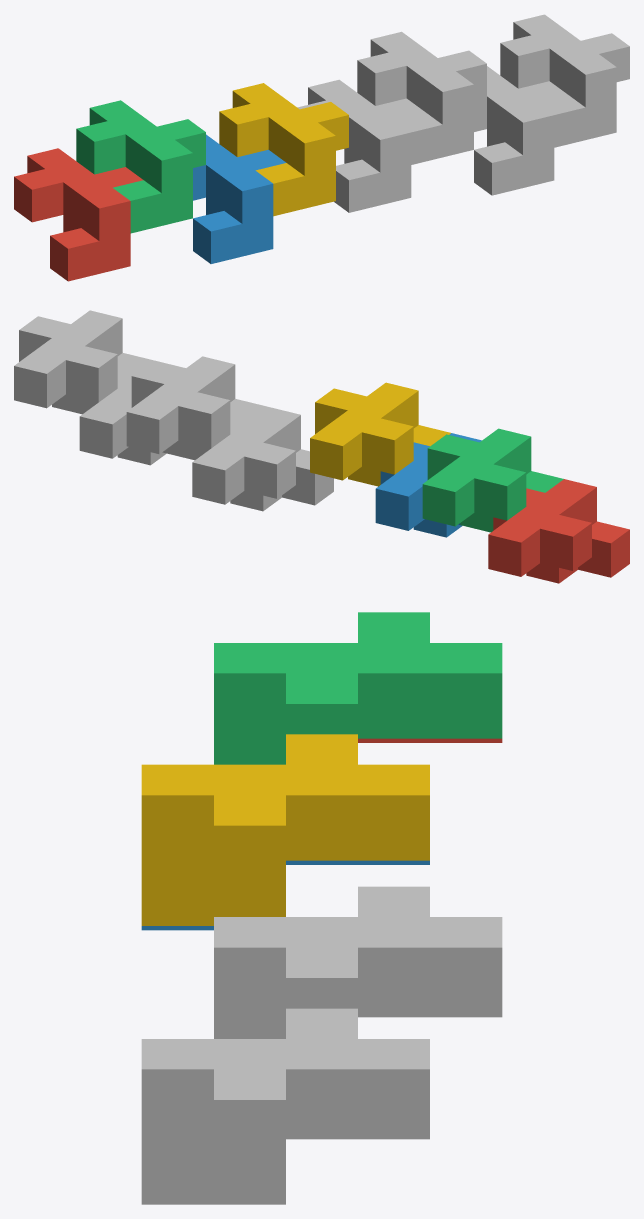
File: tiling.obj
3 views of the same model, one above another, from view 1: azimuth 30°, elevation 25°; view 2: azimuth 150°, elevation 25°; view 3: azimuth 270°, elevation 25° (orthographic). The views are drawn at different scales.
Visible parts, largest first — view 1: copy_1_domain_1, copy_1_domain_3, copy_1_domain_8, copy_1_domain_4, copy_1_domain_7, copy_1_domain_5, copy_1_domain_2, copy_1_domain_6; view 2: copy_1_domain_1, copy_1_domain_5, copy_1_domain_7, copy_1_domain_3, copy_1_domain_8, copy_1_domain_4, copy_1_domain_2, copy_1_domain_6; view 3: copy_1_domain_8, copy_1_domain_4, copy_1_domain_3, copy_1_domain_7, copy_1_domain_6, copy_1_domain_2.
Boxes of the visible parts, left/top/right/bottom form: copy_1_domain_1: left=14, top=148, right=143, bottom=281; copy_1_domain_3: left=76, top=100, right=205, bottom=233; copy_1_domain_8: left=500, top=14, right=629, bottom=147; copy_1_domain_4: left=219, top=83, right=348, bottom=216; copy_1_domain_7: left=357, top=31, right=486, bottom=164; copy_1_domain_5: left=297, top=79, right=424, bottom=212; copy_1_domain_2: left=193, top=134, right=286, bottom=263; copy_1_domain_6: left=474, top=66, right=566, bottom=195; copy_1_domain_1: left=488, top=479, right=629, bottom=583; copy_1_domain_5: left=192, top=407, right=333, bottom=511; copy_1_domain_7: left=126, top=356, right=267, bottom=460; copy_1_domain_3: left=422, top=428, right=563, bottom=532; copy_1_domain_8: left=14, top=310, right=155, bottom=414; copy_1_domain_4: left=310, top=382, right=450, bottom=486; copy_1_domain_2: left=375, top=433, right=481, bottom=537; copy_1_domain_6: left=79, top=361, right=185, bottom=465; copy_1_domain_8: left=141, top=1008, right=429, bottom=1199; copy_1_domain_4: left=141, top=734, right=429, bottom=925; copy_1_domain_3: left=214, top=612, right=502, bottom=764; copy_1_domain_7: left=214, top=886, right=502, bottom=1038; copy_1_domain_6: left=141, top=1134, right=429, bottom=1204; copy_1_domain_2: left=141, top=860, right=429, bottom=930.
Size of the model in its own units: 18 by 3 by 5.
